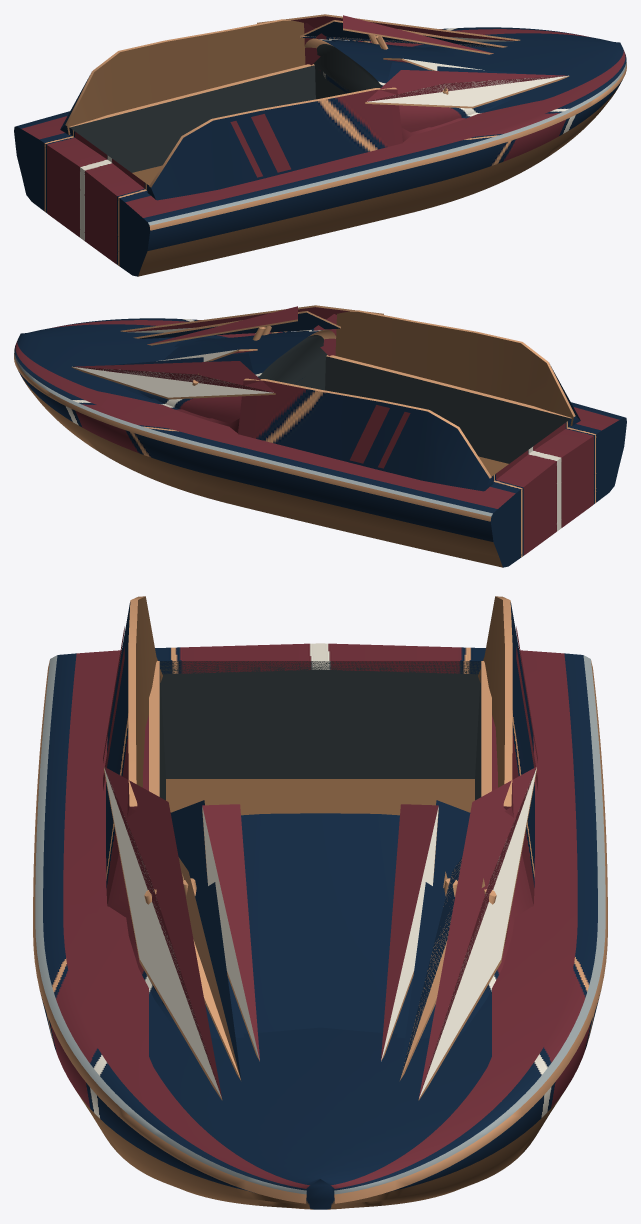
The model's file is Hull_30_UR_濃藍・赤金翼.glb.
The picture shows the model from 3 angles, top to bottom: view 1: azimuth 30°, elevation 25°; view 2: azimuth 150°, elevation 25°; view 3: azimuth 270°, elevation 25°; orthographic projection. The views are drawn at different scales.
Parts seen in each view (by area): view 1: Hull_30_UR; view 2: Hull_30_UR; view 3: Hull_30_UR.
Part boxes in pixels (bbox=[...]): Hull_30_UR: bbox=[14, 14, 626, 276]; Hull_30_UR: bbox=[14, 305, 626, 567]; Hull_30_UR: bbox=[33, 596, 607, 1209].
Size of the model in its own units: 2.9 by 0.6856 by 1.34.
4 materials, 4 textured.
